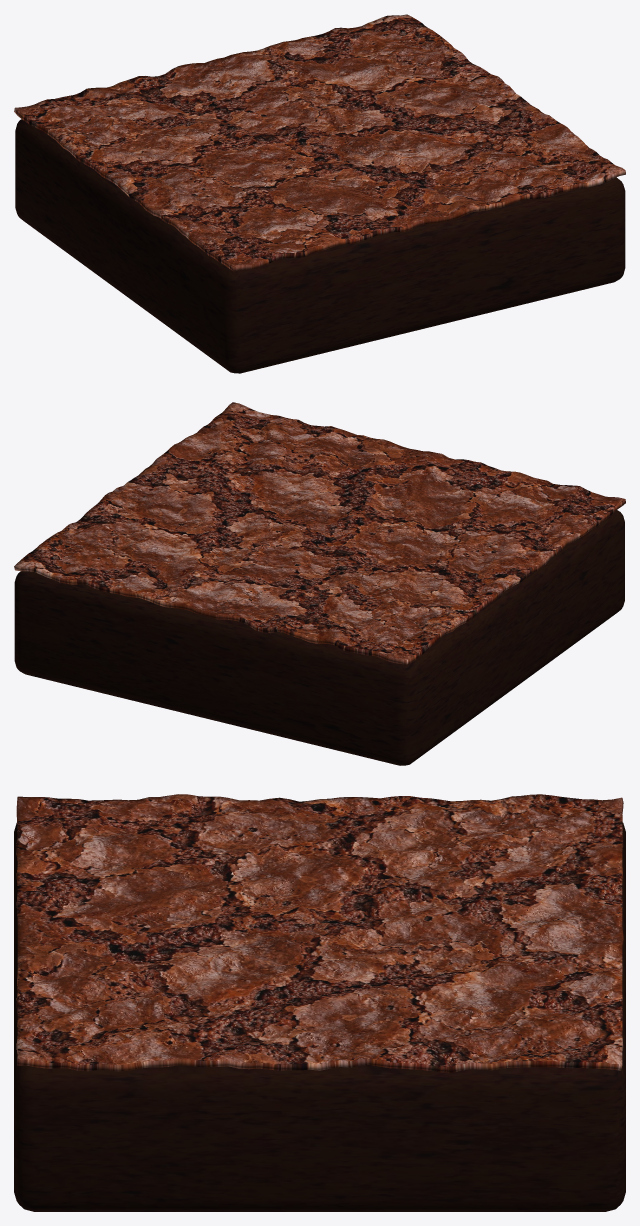
File: sweet-brownie.glb
3 renders of one model, top to bottom at view 1: azimuth 30°, elevation 25°; view 2: azimuth 150°, elevation 25°; view 3: azimuth 270°, elevation 25°, orthographic. The views are drawn at different scales.
Parts seen in each view (by area): view 1: Papery crackled brownie crust, Dense fudge brownie; view 2: Papery crackled brownie crust, Dense fudge brownie; view 3: Papery crackled brownie crust, Dense fudge brownie.
Part boxes in pixels (left/top/right/bottom): Papery crackled brownie crust: left=14, top=14, right=625, bottom=271; Dense fudge brownie: left=15, top=119, right=625, bottom=373; Papery crackled brownie crust: left=14, top=402, right=625, bottom=664; Dense fudge brownie: left=14, top=510, right=624, bottom=765; Papery crackled brownie crust: left=16, top=794, right=624, bottom=1072; Dense fudge brownie: left=14, top=822, right=625, bottom=1211.
Bounding box in the file's own units: 1.77 × 0.4835 × 1.7.
Materials: 2 (2 with a texture image).
